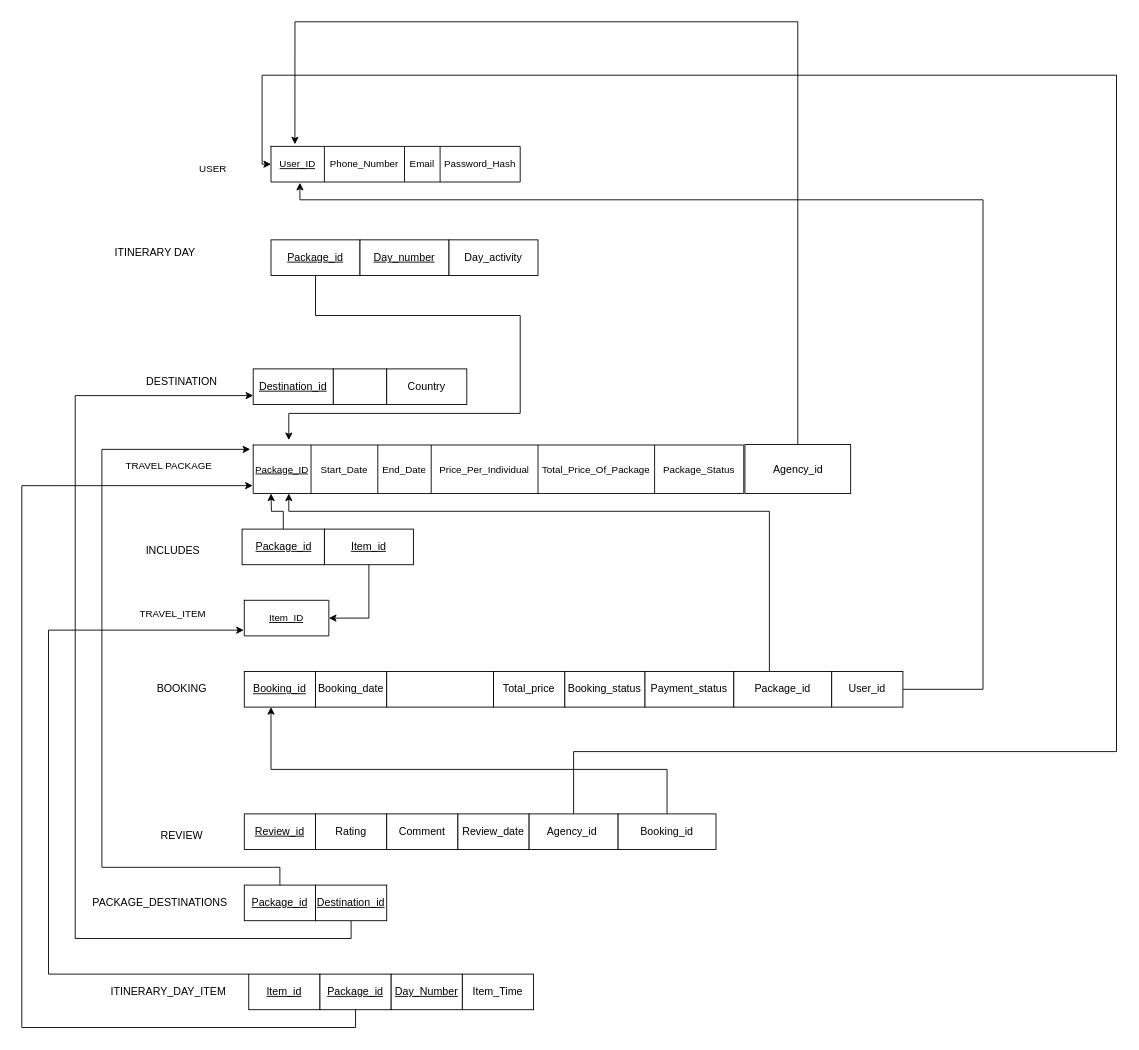
Some shapes in this 1139 by 1050 pixel diagram are drawn without their labels. Here are the shapes that lost their labels. From the top down, the box of each, then its label:
(332, 368, 387, 405): City
(386, 671, 494, 707): Number_of_people
